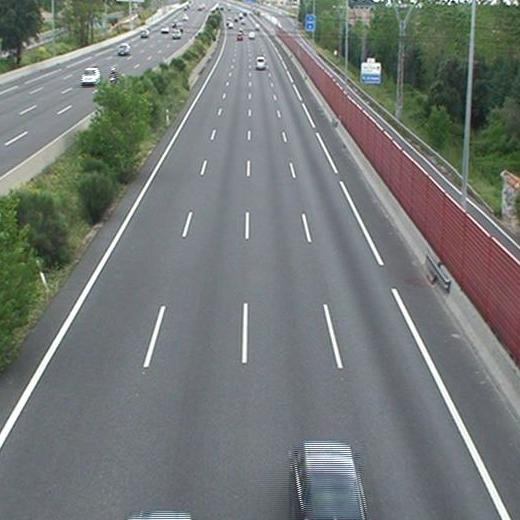car: (292, 441, 362, 520), (255, 57, 266, 70)
